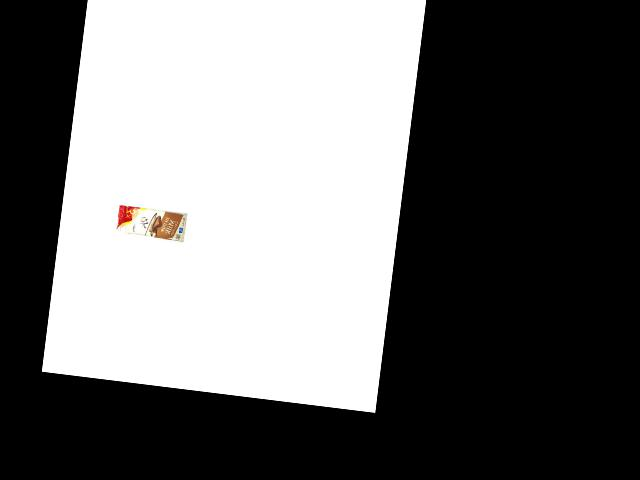chocolate: (114, 202, 186, 243)
